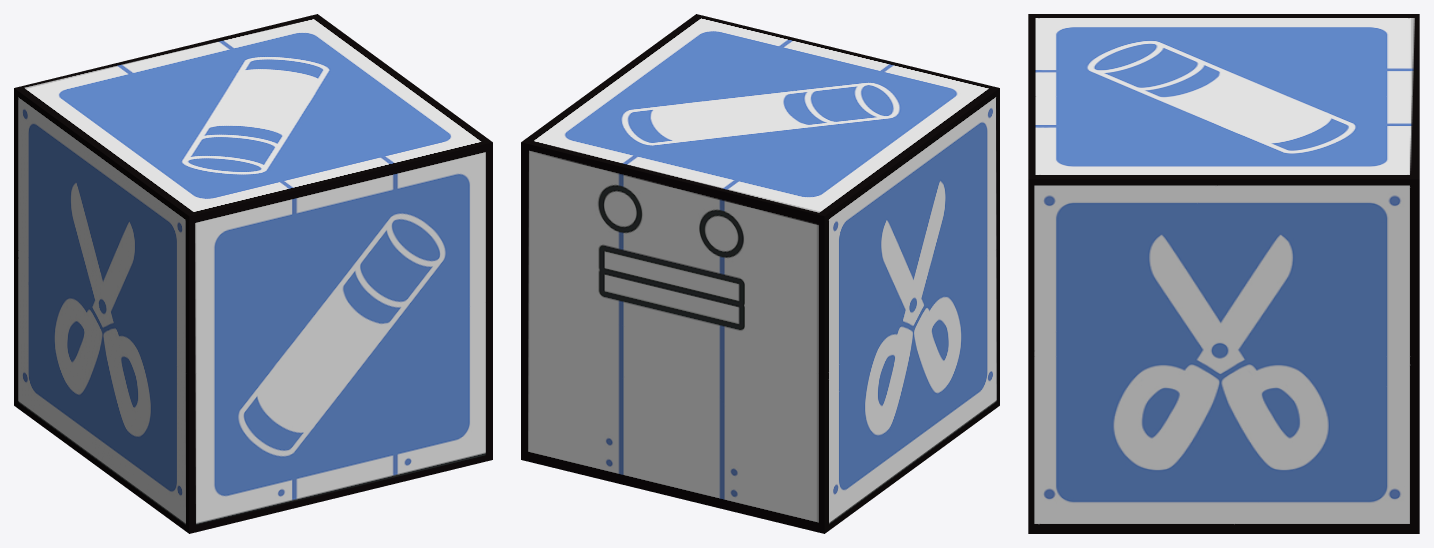
Rendered from tukuru.FBX.
The picture shows the model from 3 angles, left to right: view 1: azimuth 30°, elevation 25°; view 2: azimuth 150°, elevation 25°; view 3: azimuth 270°, elevation 25°; orthographic projection. The views are drawn at different scales.
Visible parts, largest first — view 1: オブジェクト006; view 2: オブジェクト006; view 3: オブジェクト006.
Part boxes in pixels (x1=…): オブジェクト006: x1=14, y1=14, x2=492, y2=533; オブジェクト006: x1=521, y1=14, x2=999, y2=533; オブジェクト006: x1=1028, y1=14, x2=1419, y2=533.
Bounding box in the file's own units: 17.72 × 17.72 × 17.72.
1 material, 1 textured.
